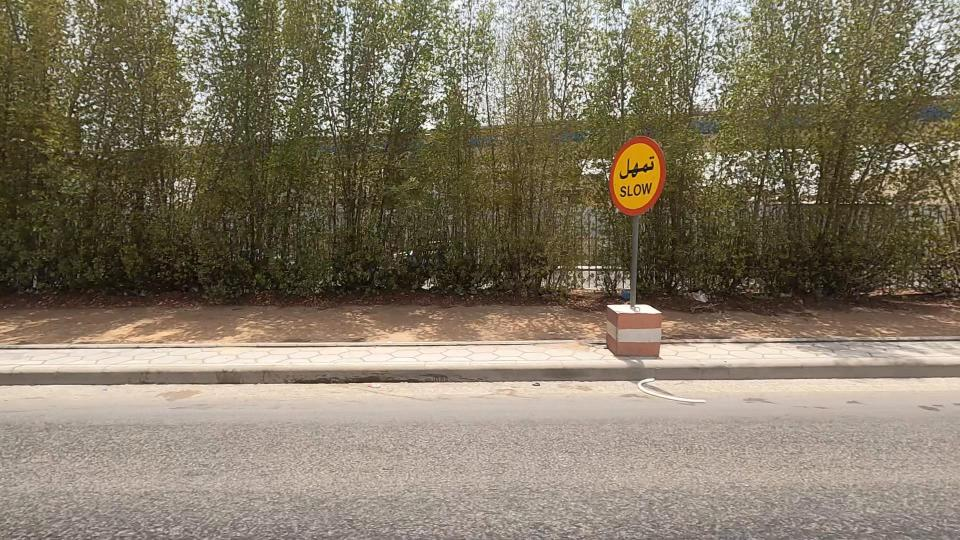GARBAGE: (597, 351, 723, 431)
